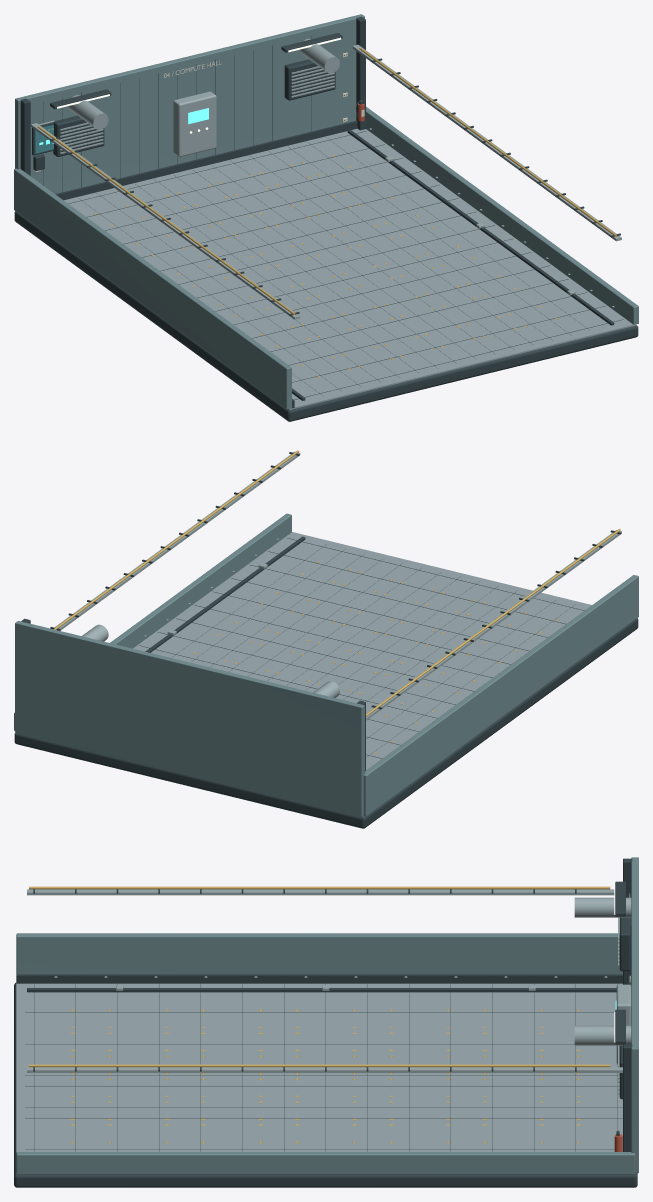
The model's file is server-hall.glb.
3 renders of one model, top to bottom at view 1: azimuth 30°, elevation 25°; view 2: azimuth 150°, elevation 25°; view 3: azimuth 270°, elevation 25°, orthographic. The views are drawn at different scales.
Visible parts, largest first — view 1: SM_server_hall_01_mineral_floor, SM_server_hall_02_painted_plaster, SM_server_hall_03_charcoal_steel, SM_server_hall_04_brushed_alloy, SM_server_hall_11_safety_paint; view 2: SM_server_hall_02_painted_plaster, SM_server_hall_01_mineral_floor, SM_server_hall_03_charcoal_steel, SM_server_hall_04_brushed_alloy, SM_server_hall_11_safety_paint; view 3: SM_server_hall_01_mineral_floor, SM_server_hall_02_painted_plaster, SM_server_hall_03_charcoal_steel, SM_server_hall_04_brushed_alloy, SM_server_hall_11_safety_paint.
Part boxes in pixels (<box>): SM_server_hall_01_mineral_floor: <box>64,128,636,409</box>; SM_server_hall_02_painted_plaster: <box>14,14,638,409</box>; SM_server_hall_03_charcoal_steel: <box>14,16,638,421</box>; SM_server_hall_04_brushed_alloy: <box>30,38,621,319</box>; SM_server_hall_11_safety_paint: <box>37,47,617,377</box>; SM_server_hall_02_painted_plaster: <box>14,513,638,816</box>; SM_server_hall_01_mineral_floor: <box>133,532,591,816</box>; SM_server_hall_03_charcoal_steel: <box>14,452,638,828</box>; SM_server_hall_04_brushed_alloy: <box>54,451,621,720</box>; SM_server_hall_11_safety_paint: <box>53,450,620,754</box>; SM_server_hall_01_mineral_floor: <box>16,983,635,1174</box>; SM_server_hall_02_painted_plaster: <box>16,857,638,1174</box>; SM_server_hall_03_charcoal_steel: <box>14,858,637,1187</box>; SM_server_hall_04_brushed_alloy: <box>27,889,631,1094</box>; SM_server_hall_11_safety_paint: <box>29,886,610,1143</box>.
Bounding box in the file's own units: 11.08 × 3.68 × 15.
